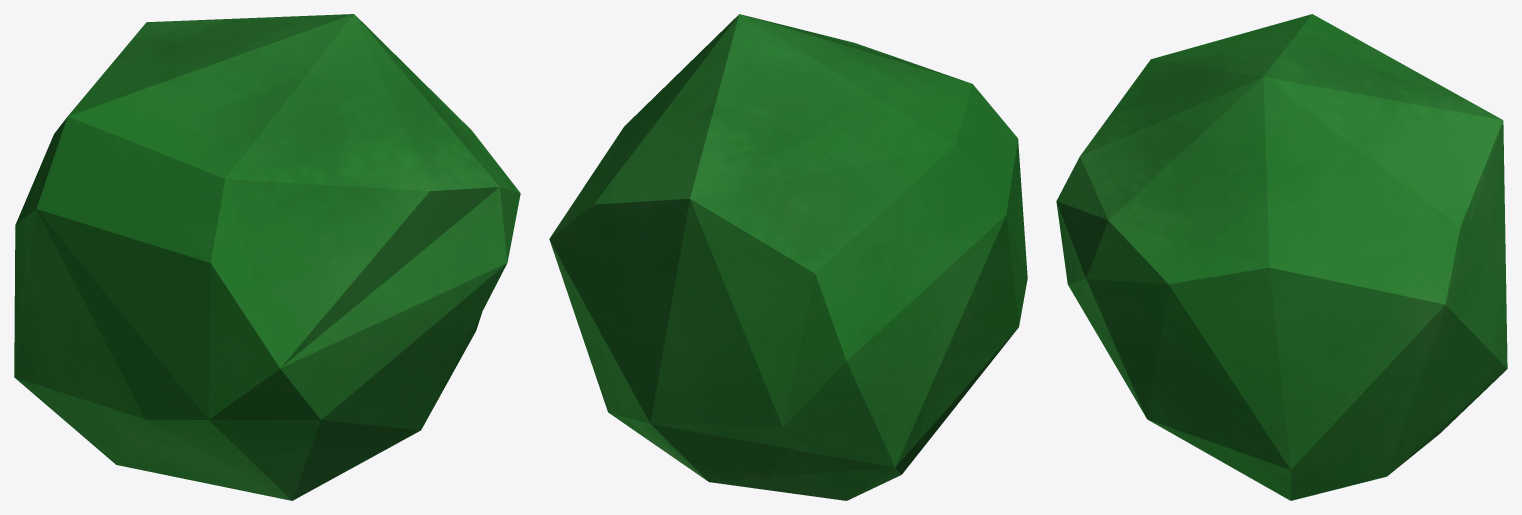
The model's file is bush.fbx.
The picture shows the model from 3 angles, left to right: view 1: azimuth 30°, elevation 25°; view 2: azimuth 150°, elevation 25°; view 3: azimuth 270°, elevation 25°; orthographic projection. The views are drawn at different scales.
Visible parts, largest first — view 1: Box001; view 2: Box001; view 3: Box001.
Boxes of the visible parts, box(x1,y1,x2,y2) form: Box001: box(14, 14, 520, 500); Box001: box(549, 14, 1027, 500); Box001: box(1056, 14, 1507, 500).
Bounding box in the file's own units: 29.64 × 28.2 × 28.66.
